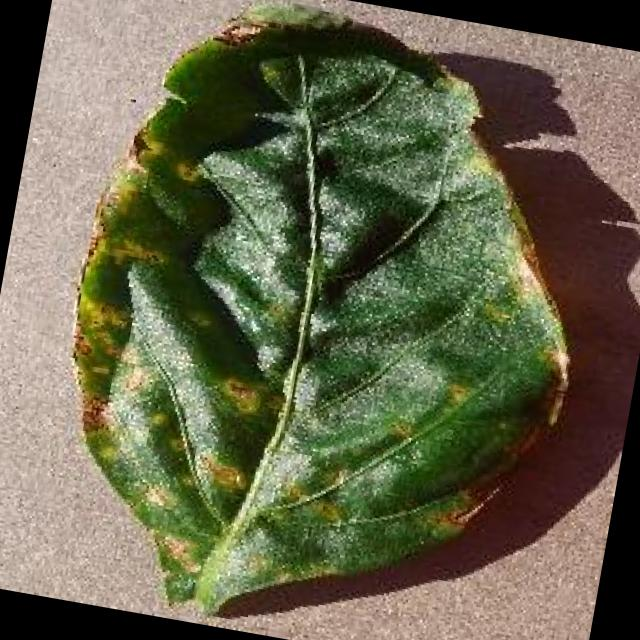Chilli_Bacterial_Spot: (20, 0, 630, 640), (528, 342, 576, 432), (212, 368, 270, 422), (193, 449, 252, 500), (72, 389, 114, 437), (471, 294, 516, 334), (132, 473, 175, 514), (306, 491, 348, 532), (164, 149, 204, 187), (125, 122, 159, 166), (437, 374, 474, 410), (379, 412, 416, 448)
